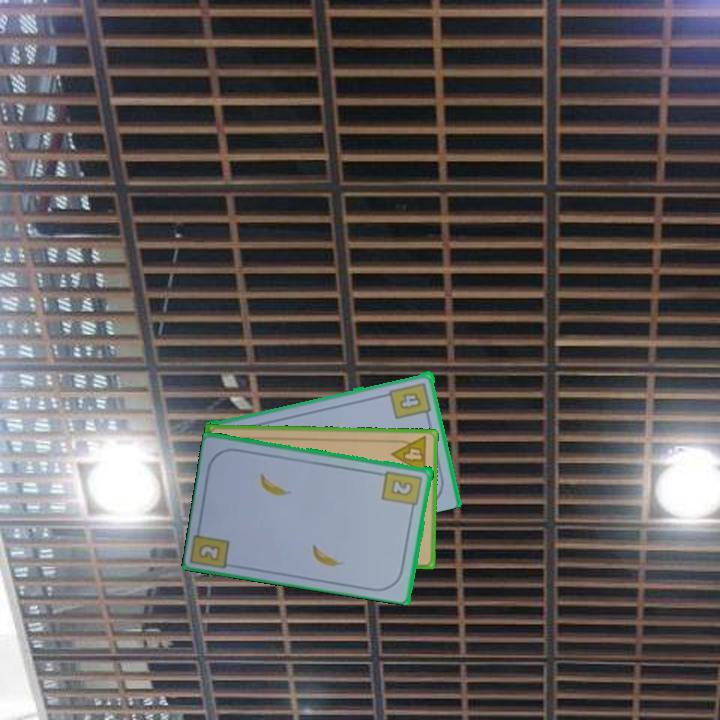2b: (379, 467, 425, 514), (197, 542, 221, 561)
4b: (387, 378, 434, 422)
4p: (389, 433, 430, 478)
